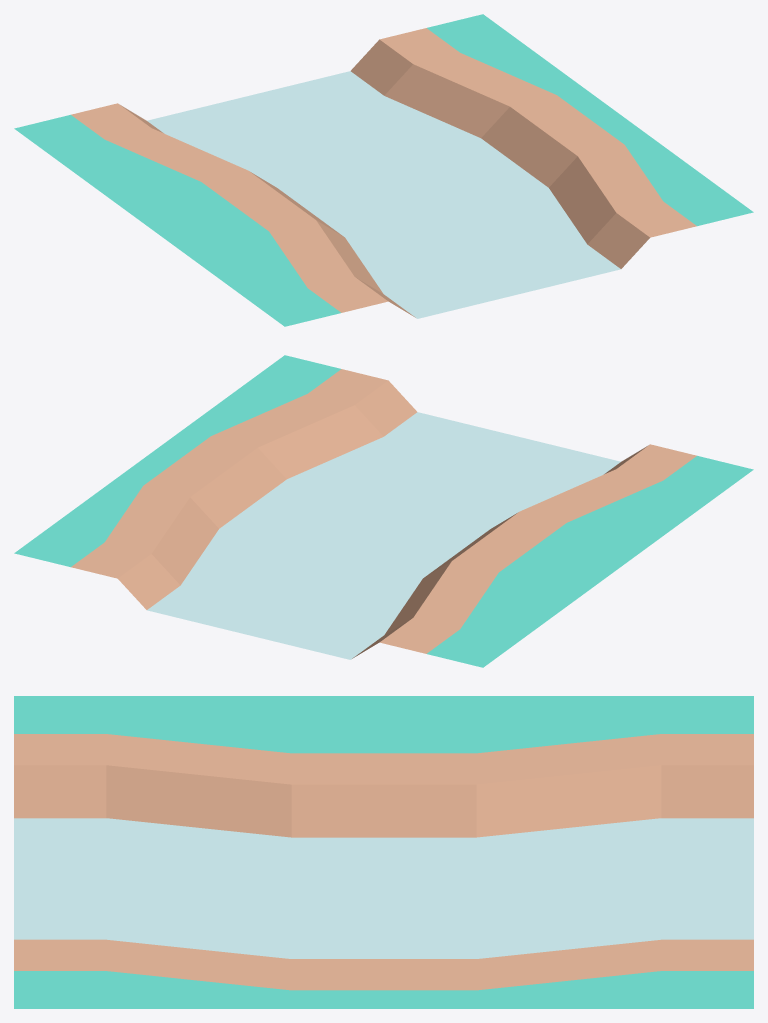
Rendered from ground_riverStraight.gltf.
The picture shows the model from 3 angles, top to bottom: view 1: azimuth 30°, elevation 25°; view 2: azimuth 150°, elevation 25°; view 3: azimuth 270°, elevation 25°; orthographic projection. The views are drawn at different scales.
Parts seen in each view (by area): view 1: ground_riverStraight; view 2: ground_riverStraight; view 3: ground_riverStraight.
Boxes of the visible parts, x1=… form: ground_riverStraight: x1=14, y1=14, x2=753, y2=326; ground_riverStraight: x1=14, y1=355, x2=753, y2=667; ground_riverStraight: x1=14, y1=696, x2=753, y2=1008.
Bounding box in the file's own units: 1 × 0.05 × 1.
